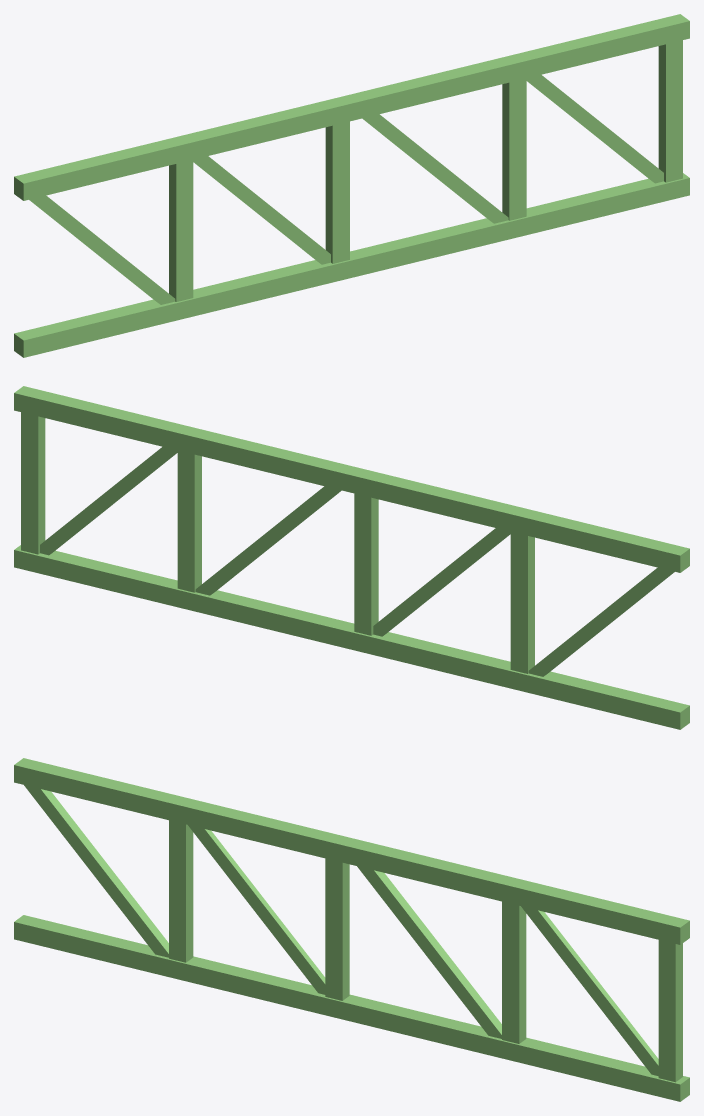
File: Lattice_4x.fbx
3 renders of one model, top to bottom at view 1: azimuth 30°, elevation 25°; view 2: azimuth 150°, elevation 25°; view 3: azimuth 330°, elevation 25°, orthographic.
Parts seen in each view (by area): view 1: Lattice_4x; view 2: Lattice_4x; view 3: Lattice_4x.
Part boxes in pixels (x1,y1,x2,y2): Lattice_4x: (14, 14, 689, 357); Lattice_4x: (14, 386, 689, 729); Lattice_4x: (14, 758, 689, 1101).
Bounding box in the file's own units: 600 × 150 × 15.
